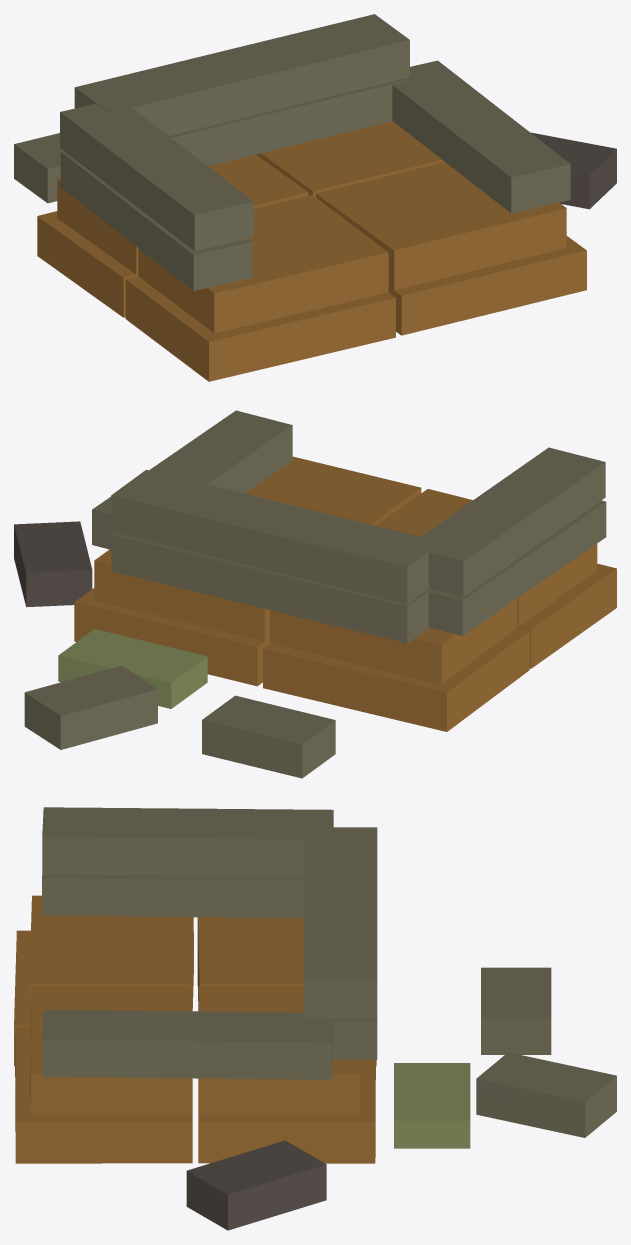
Rendered from SM_Nido_v4_LOD1.fbx.
3 views of the same model, one above another, from view 1: azimuth 30°, elevation 25°; view 2: azimuth 150°, elevation 25°; view 3: azimuth 270°, elevation 25° (orthographic). The views are drawn at different scales.
Visible parts, largest first — view 1: SM_banqueta_tiro_v9_LOD1; view 2: SM_banqueta_tiro_v9_LOD1; view 3: SM_banqueta_tiro_v9_LOD1.
Boxes of the visible parts, bbox=[...] form: SM_banqueta_tiro_v9_LOD1: bbox=[14, 14, 616, 381]; SM_banqueta_tiro_v9_LOD1: bbox=[14, 410, 616, 778]; SM_banqueta_tiro_v9_LOD1: bbox=[14, 807, 616, 1230].
Size of the model in its own units: 4.03 by 1.19 by 3.95.
